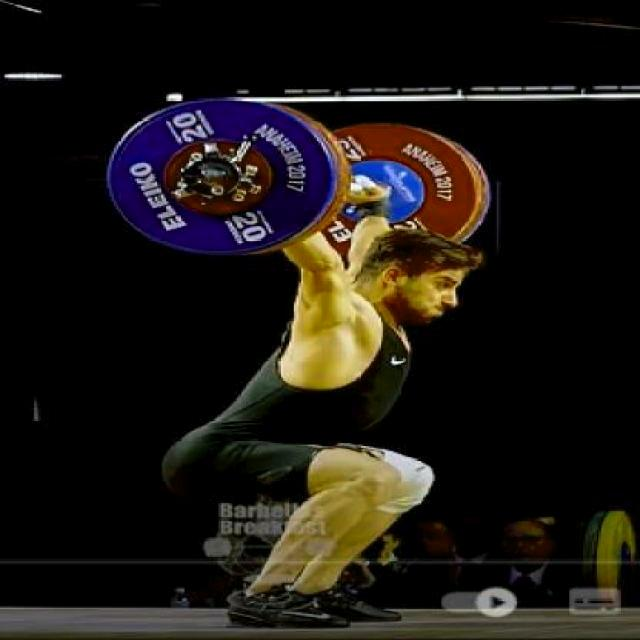barbell: (105, 91, 342, 262)
